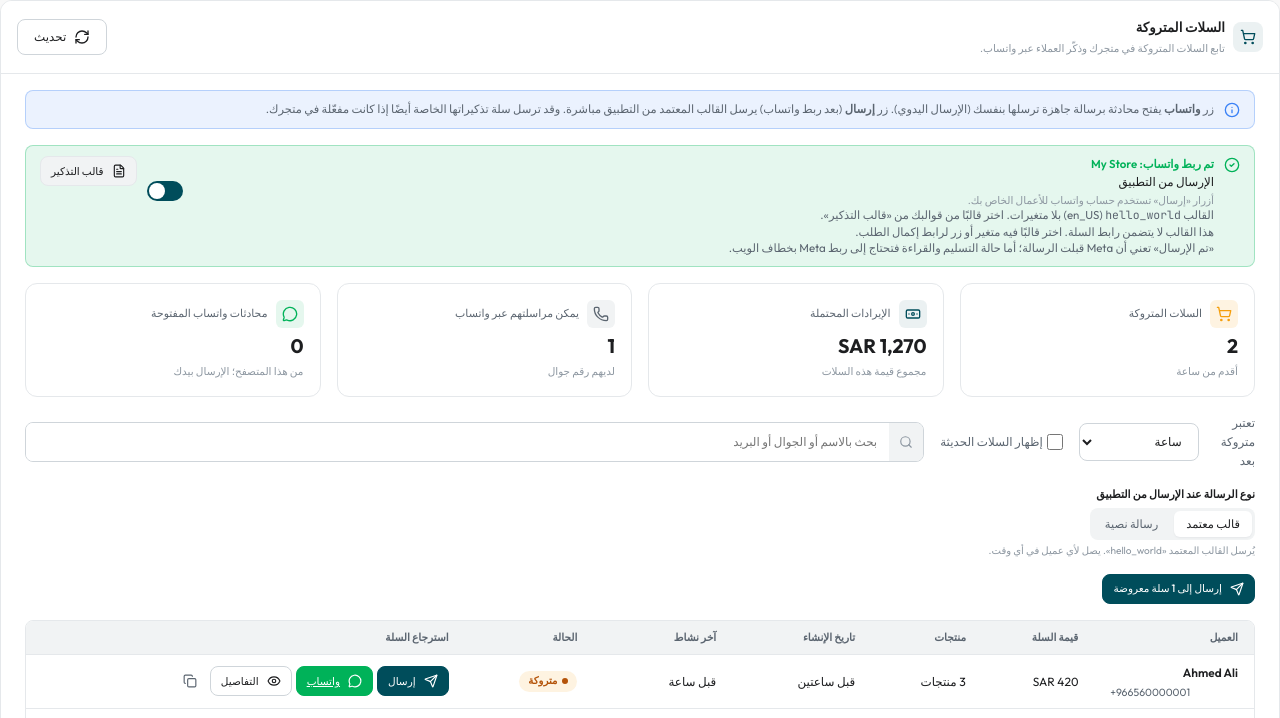
Test: CartRecoveryTab › sends one cart through the API and marks it as sent
The image size is (1280, 718).
Expected: the text "تم ربط واتساب: My Store" is shown, [1091,157,1214,171]
Expected: the text "لا يتضمن رابط السلة" is shown, [855,225,1214,239]
Click the button with aria-label "إرسال عبر واتساب إلى Ahmed Ali".
click(413, 682)  # box [377,666,449,696]
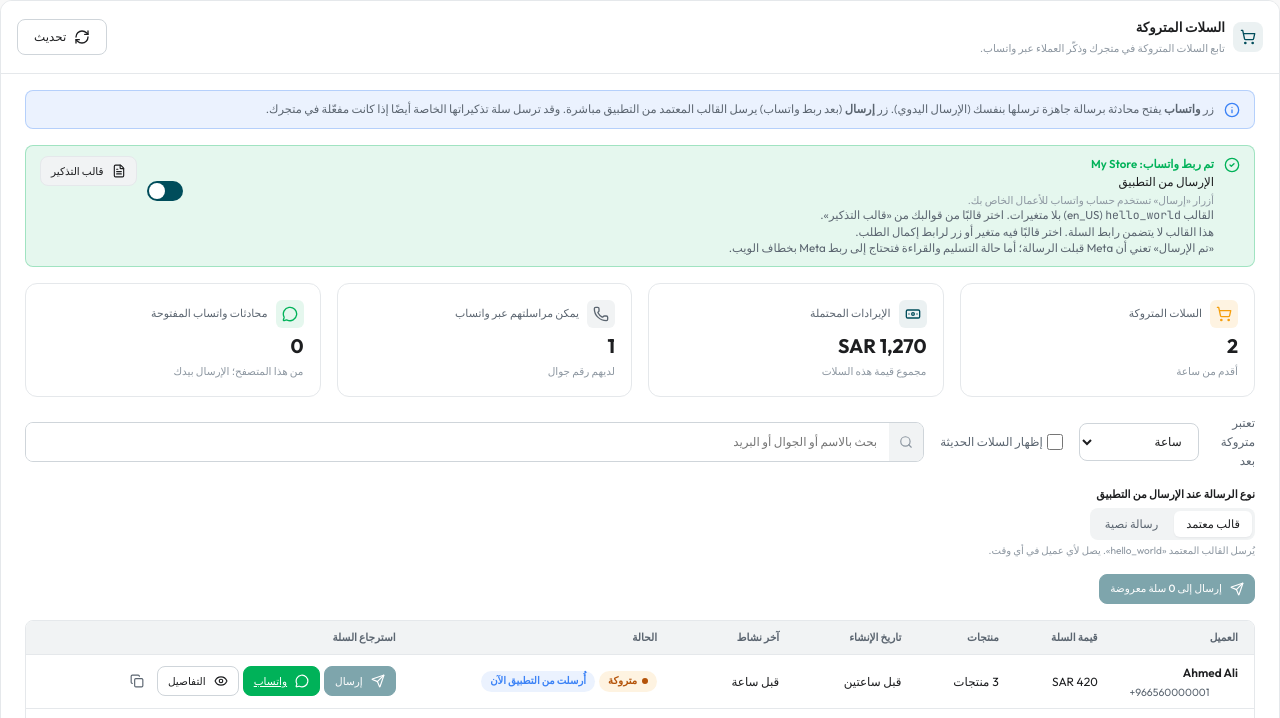
Result: the text "أُرسلت من التطبيق الآن" is shown at [481,671,595,692]
Result: the button with aria-label "إرسال عبر واتساب إلى Ahmed Ali" is disabled at [324,666,396,696]
